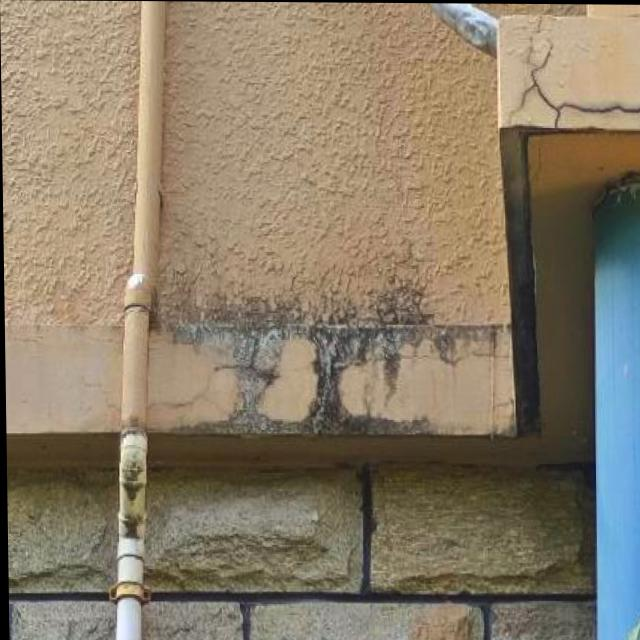crack: (503, 19, 640, 132)
mildew: (161, 293, 517, 440)
